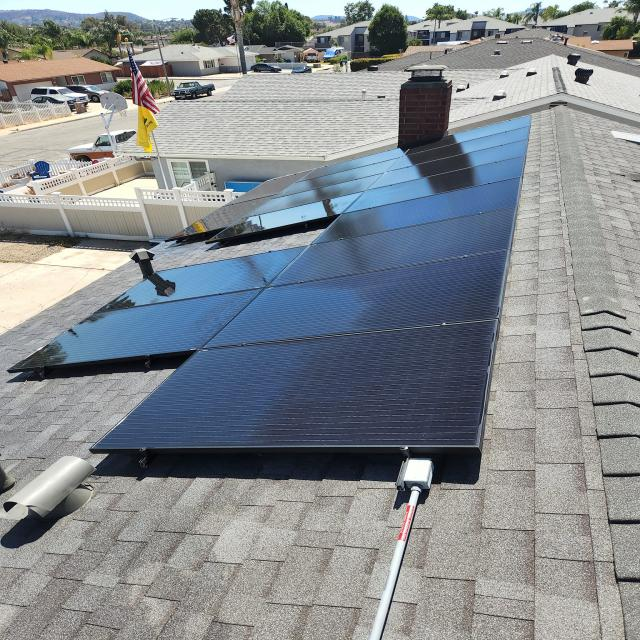clean-solar-panel: (12, 118, 530, 452)
